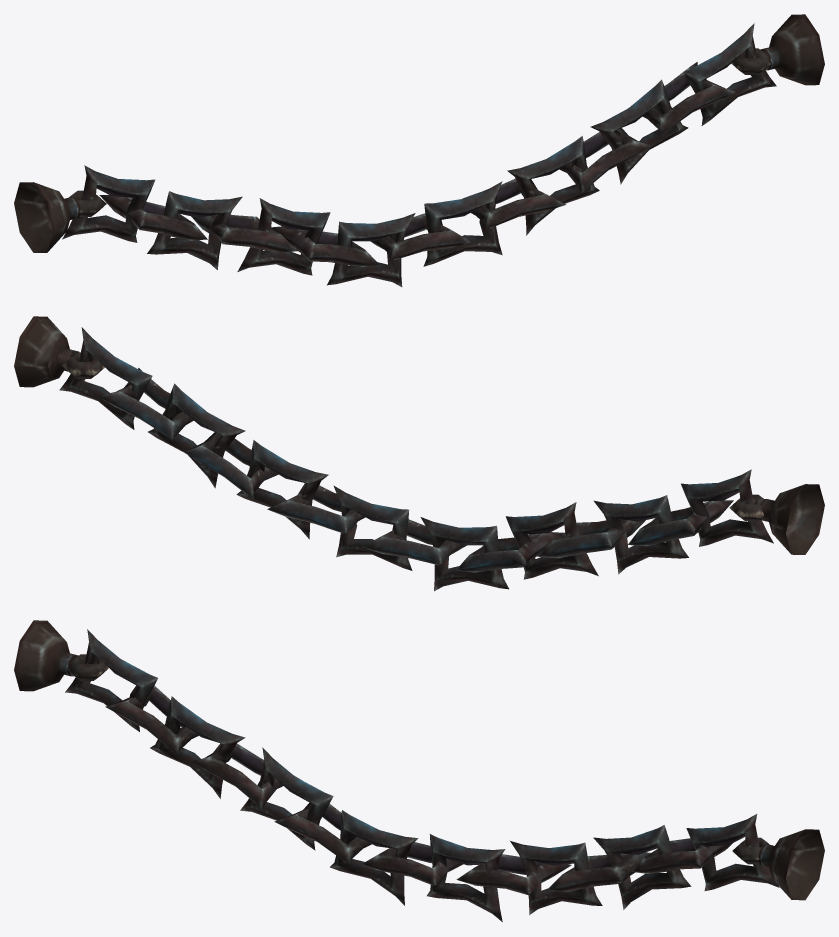
File: hs_suolian.FBX
3 views of the same model, one above another, from view 1: azimuth 30°, elevation 25°; view 2: azimuth 150°, elevation 25°; view 3: azimuth 330°, elevation 25° (orthographic).
Visible parts, largest first — view 1: hs_men_taizi03; view 2: hs_men_taizi03; view 3: hs_men_taizi03.
Part boxes in pixels (x1,y1,x2,y2): hs_men_taizi03: (14,14,824,286); hs_men_taizi03: (14,316,824,591); hs_men_taizi03: (14,620,824,921).
Size of the model in its own units: 265 by 65.68 by 24.86.
